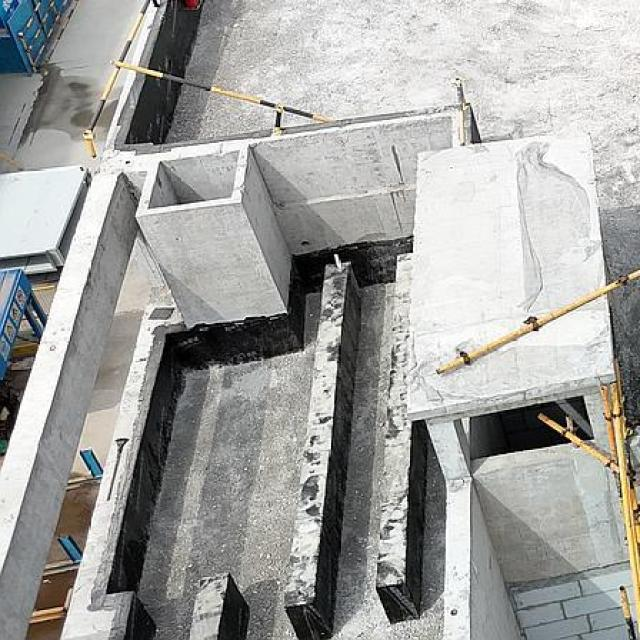edge_guardrail: (82, 0, 334, 159)
